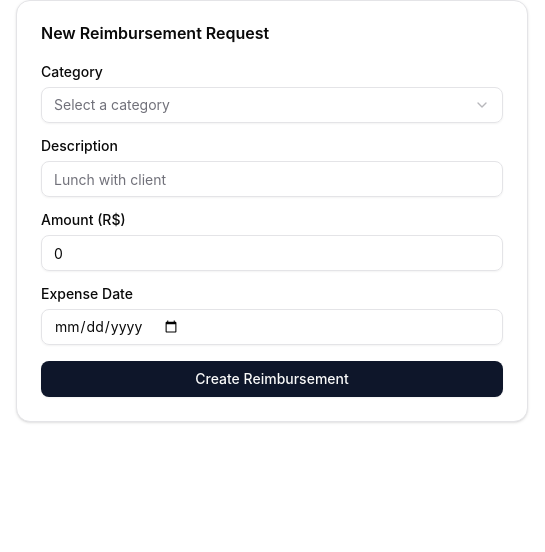
ReimbursementForm › deve mostrar erro para data futura
This screenshot has width=545, height=552.
Type "2099-12-31" into the date field labelled "Expense Date" at (272, 327), box [41,309,503,345]
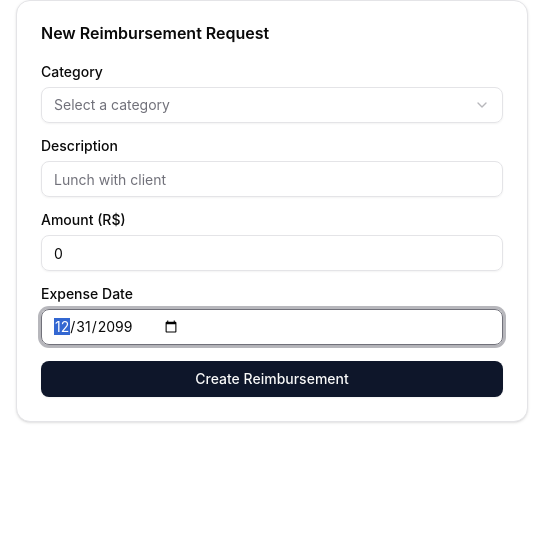
Click the button "Create Reimbursement" at (272, 379), box [41,361,503,397]
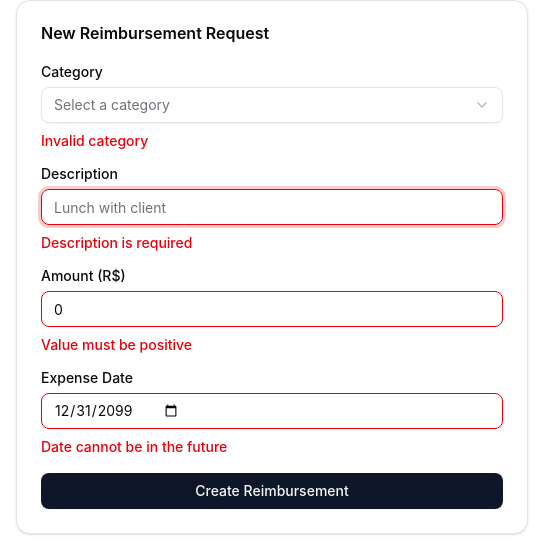
Result: the text "Date cannot be in the future" is shown at [41,438,227,455]
